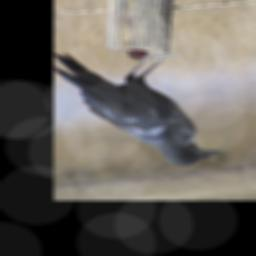Crow: (54, 49, 224, 168)
